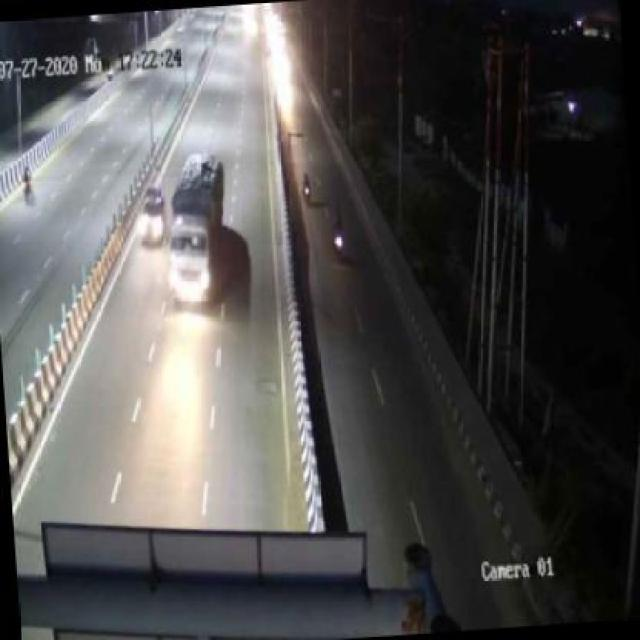car: (132, 181, 171, 254)
